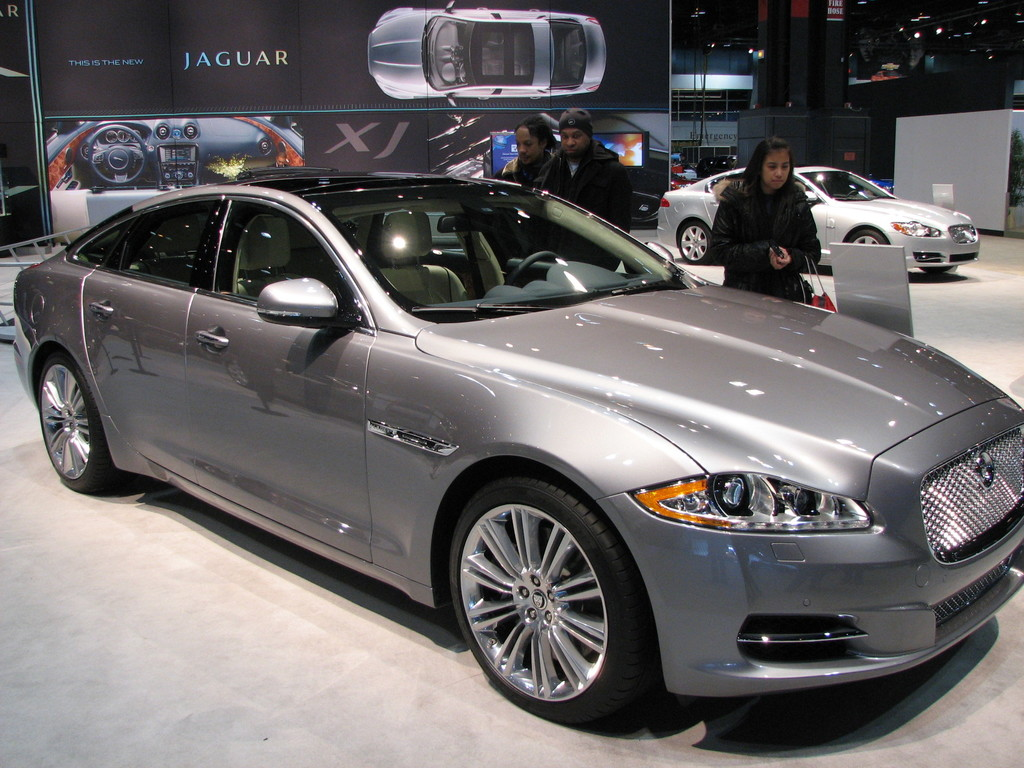Car: (10, 168, 1024, 723), (660, 166, 976, 274), (362, 5, 601, 110)
